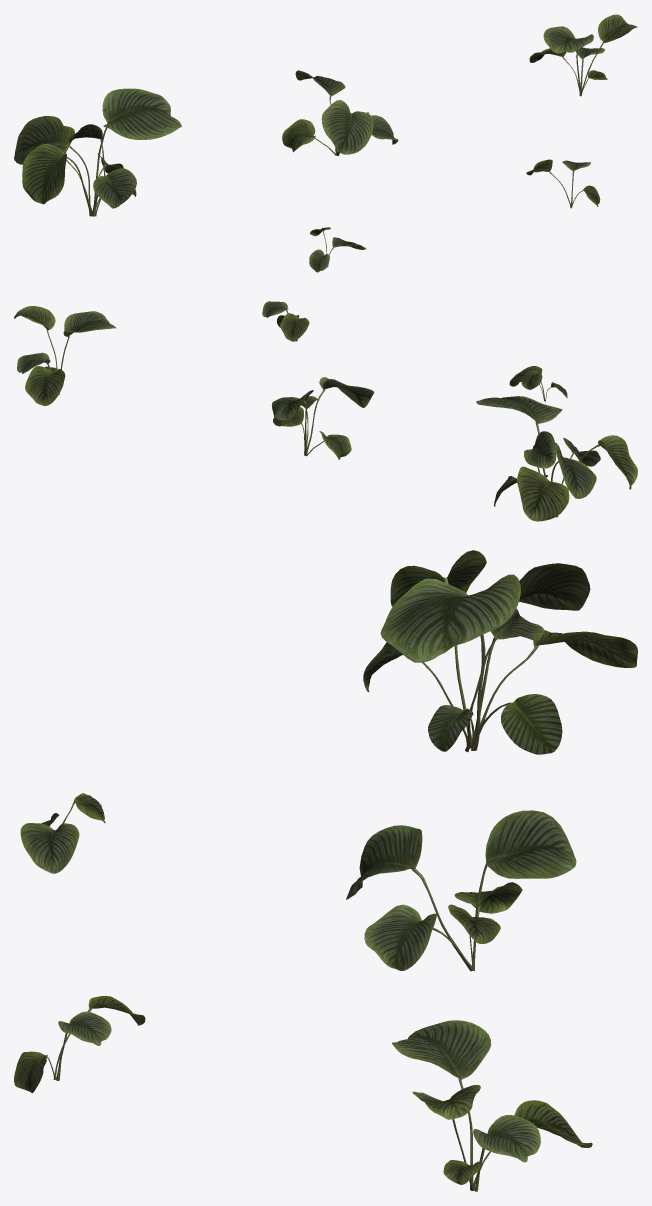
Rendered from folhagem2.glb.
The picture shows the model from 3 angles, top to bottom: view 1: azimuth 30°, elevation 25°; view 2: azimuth 150°, elevation 25°; view 3: azimuth 270°, elevation 25°; orthographic projection. The views are drawn at different scales.
Visible parts, largest first — view 1: calathea_orbifolia_01_a, calathea_orbifolia_01_b, calathea_orbifolia_01_c, calathea_orbifolia_01_e, calathea_orbifolia_01_d; view 2: calathea_orbifolia_01_a, calathea_orbifolia_01_c, calathea_orbifolia_01_b, calathea_orbifolia_01_e, calathea_orbifolia_01_d; view 3: calathea_orbifolia_01_a, calathea_orbifolia_01_b, calathea_orbifolia_01_c, calathea_orbifolia_01_e, calathea_orbifolia_01_d.
Part boxes in pixels (left/top/right/bottom): calathea_orbifolia_01_a: left=14, top=88, right=181, bottom=216; calathea_orbifolia_01_b: left=282, top=70, right=398, bottom=155; calathea_orbifolia_01_c: left=529, top=14, right=637, bottom=96; calathea_orbifolia_01_e: left=526, top=159, right=600, bottom=208; calathea_orbifolia_01_d: left=309, top=227, right=366, bottom=272; calathea_orbifolia_01_a: left=476, top=396, right=637, bottom=521; calathea_orbifolia_01_c: left=14, top=306, right=115, bottom=405; calathea_orbifolia_01_b: left=271, top=377, right=374, bottom=459; calathea_orbifolia_01_e: left=262, top=301, right=309, bottom=341; calathea_orbifolia_01_d: left=509, top=366, right=567, bottom=401; calathea_orbifolia_01_a: left=363, top=550, right=637, bottom=754; calathea_orbifolia_01_b: left=346, top=810, right=576, bottom=971; calathea_orbifolia_01_c: left=392, top=1020, right=592, bottom=1191; calathea_orbifolia_01_e: left=14, top=996, right=145, bottom=1093; calathea_orbifolia_01_d: left=20, top=793, right=105, bottom=873.
Size of the model in its own units: 2.49 by 0.4243 by 1.19.
Materials: 1 (1 with a texture image).
